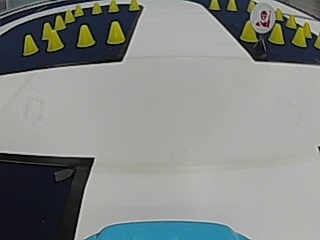evil: (249, 2, 275, 32)
